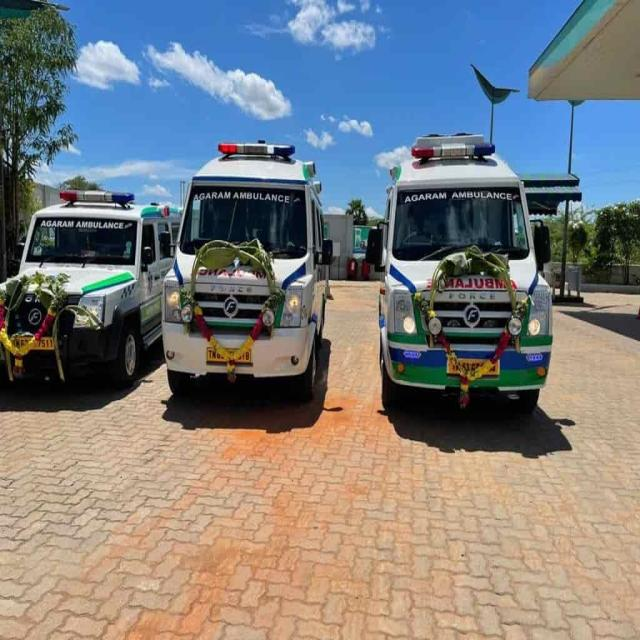ambulance: (378, 133, 552, 404), (160, 142, 330, 392), (2, 189, 170, 388)
